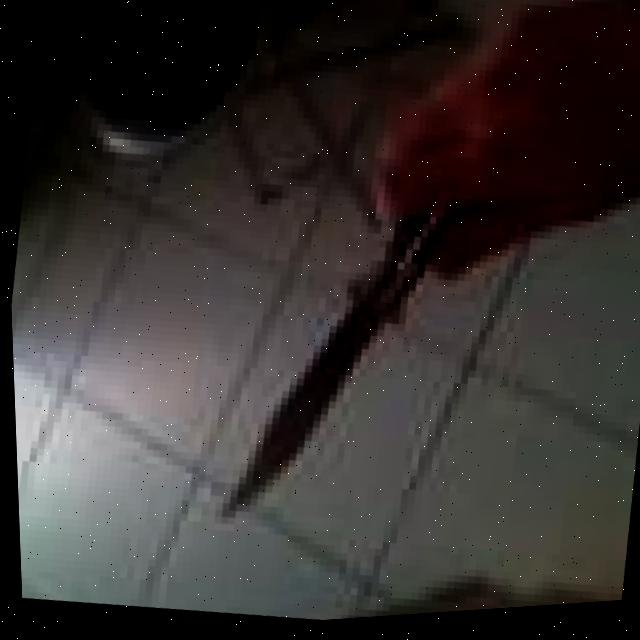knife: (201, 202, 443, 552)
